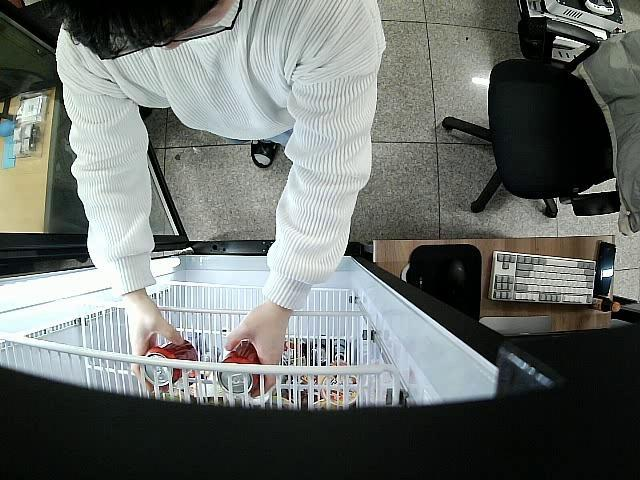11_cocaColaZero: (142, 338, 200, 388), (217, 337, 266, 395)
